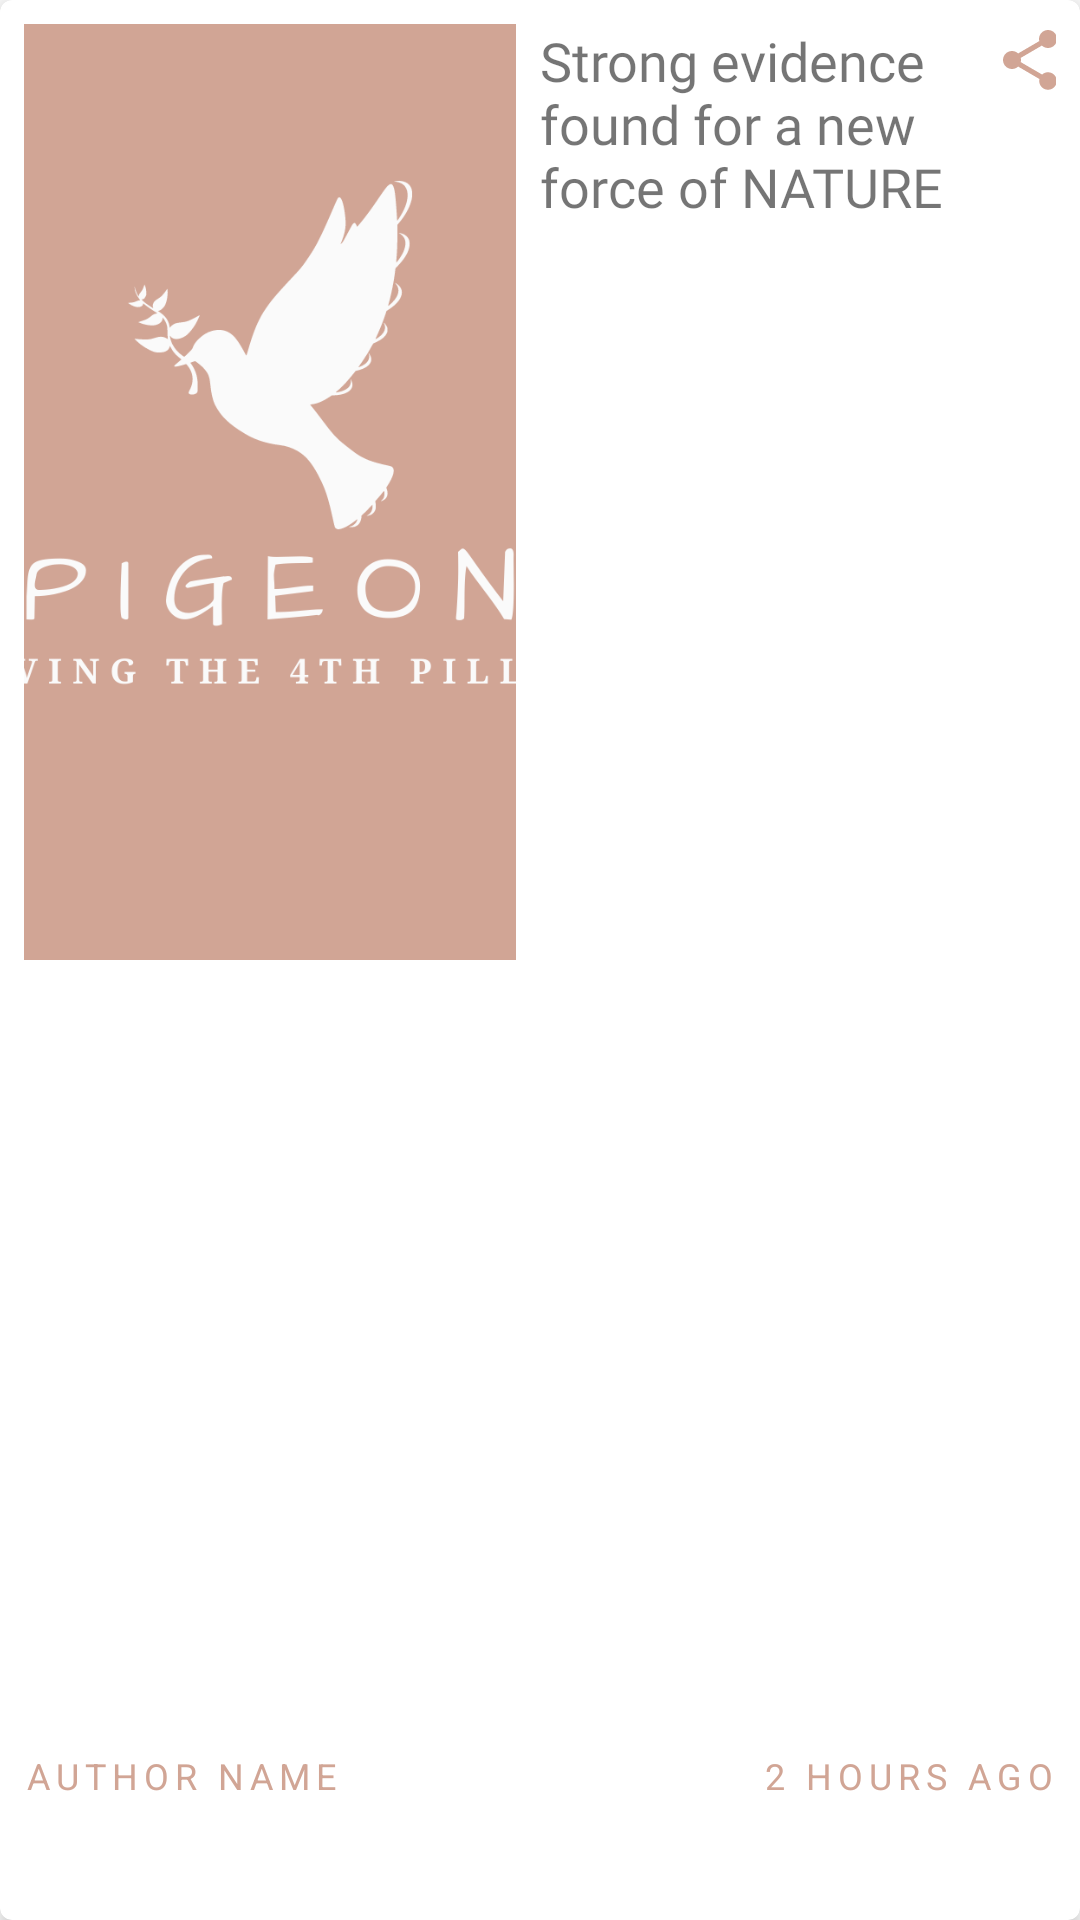

Named icons in this screenshot (1080px x 1920px) and their bounding boxes, (x1, y1, x2, y2):
share: (1003, 30, 1056, 90)
